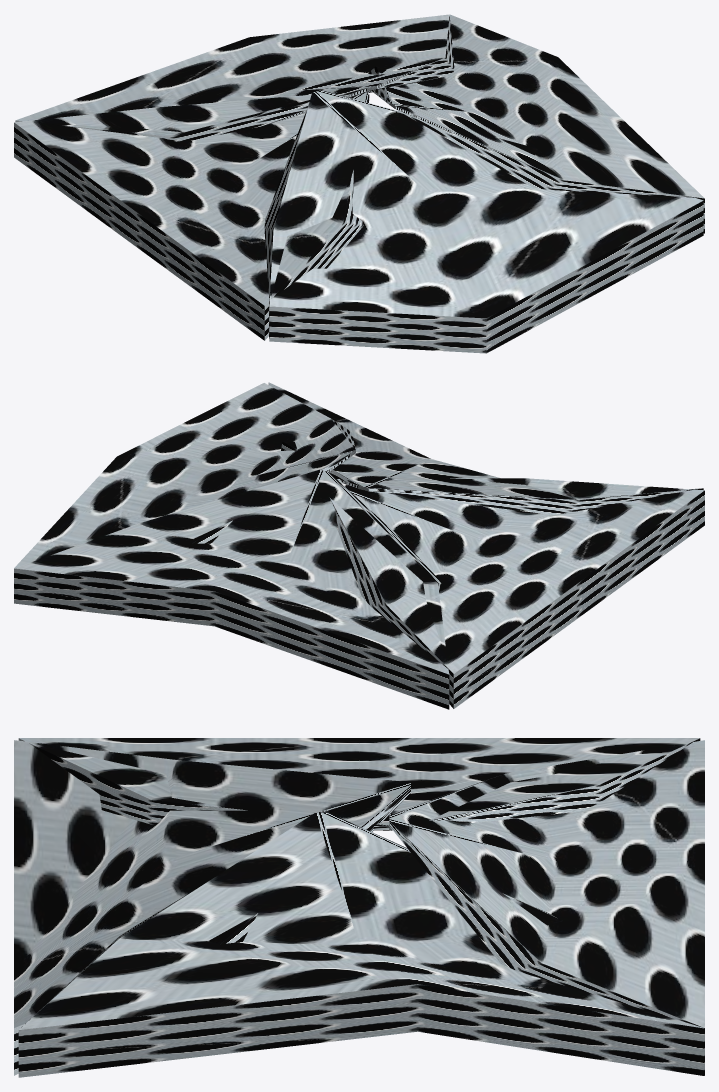
Rendered from hole in wall closed.FBX.
3 views of the same model, one above another, from view 1: azimuth 30°, elevation 25°; view 2: azimuth 150°, elevation 25°; view 3: azimuth 270°, elevation 25° (orthographic). The views are drawn at different scales.
Visible parts, largest first — view 1: Box003; view 2: Box003; view 3: Box003.
Part boxes in pixels (x1,y1,x2,y2): Box003: [14, 14, 704, 353]; Box003: [14, 382, 704, 709]; Box003: [14, 738, 704, 1077].
Bounding box in the file's own units: 20.23 × 7.11 × 20.23.
